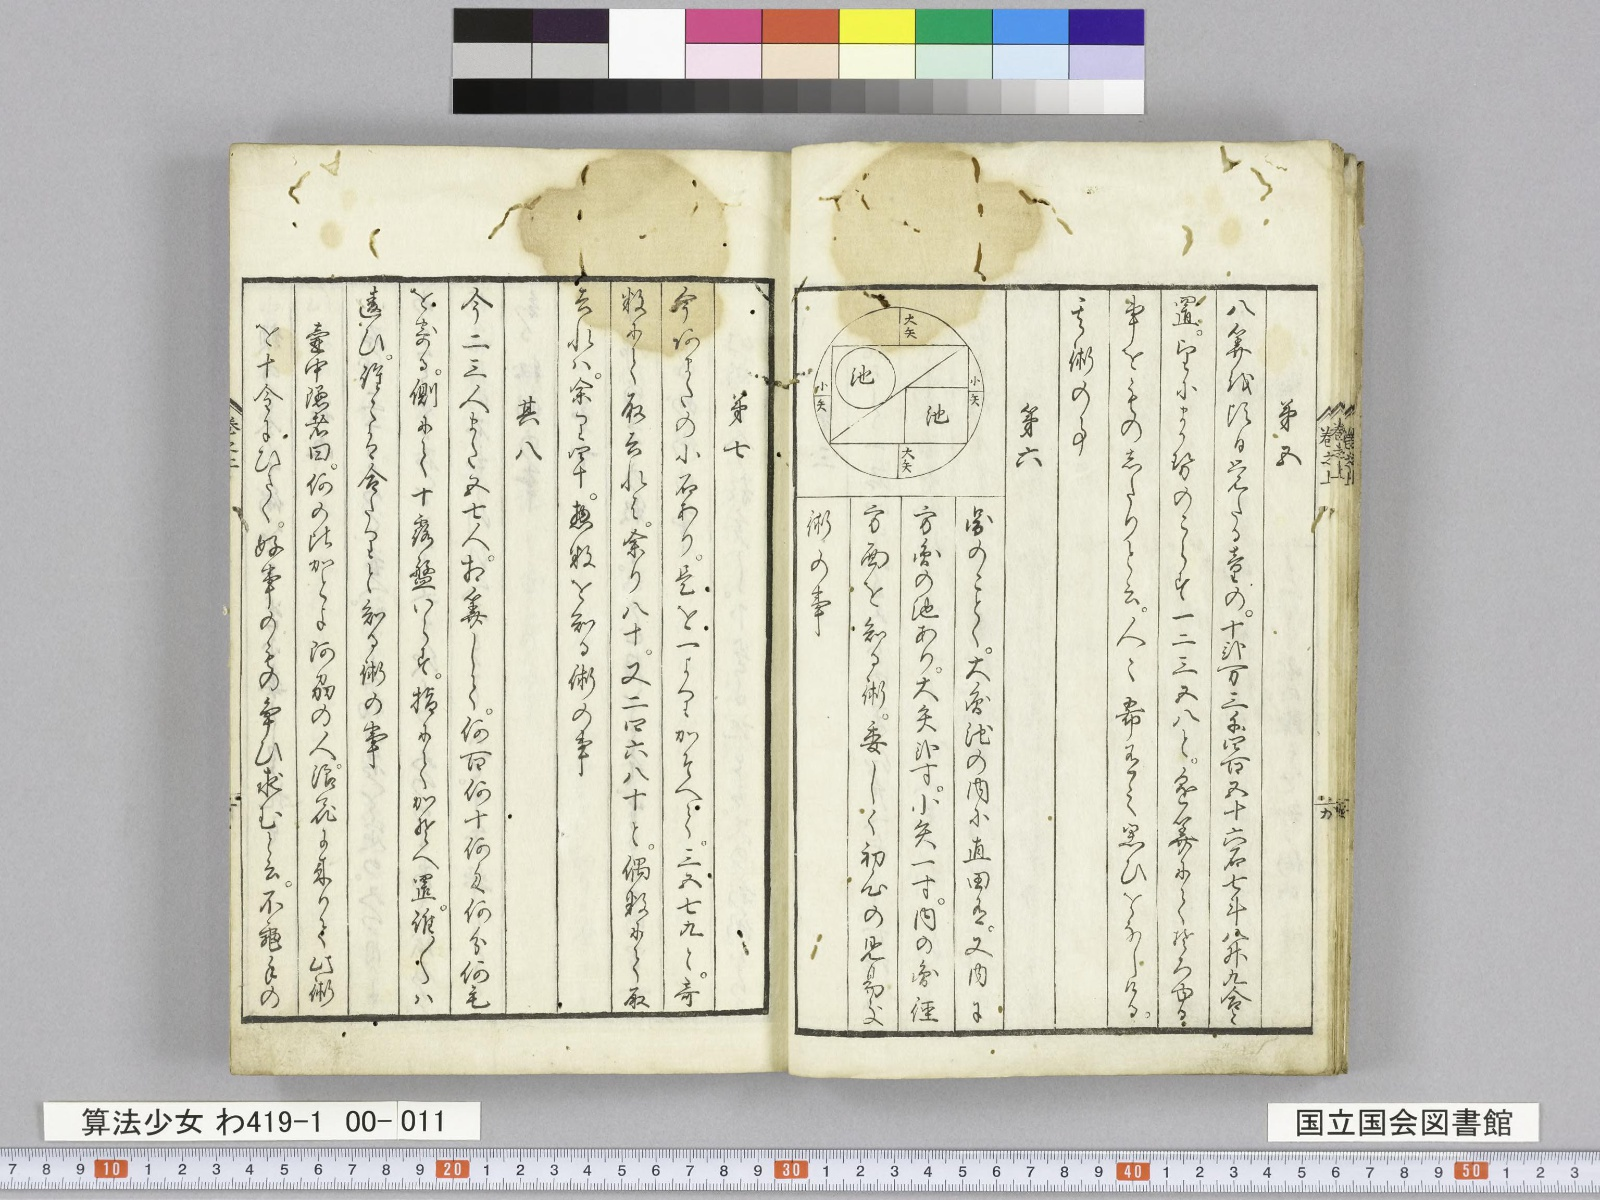1_overall: (231, 141, 1363, 1078)
2_handwritten: (674, 287, 706, 1008), (1172, 292, 1202, 961), (411, 286, 438, 1011), (624, 286, 651, 1010), (307, 325, 336, 1008), (1123, 296, 1149, 1022), (462, 292, 489, 1010), (1226, 297, 1251, 1024), (260, 321, 286, 1006), (913, 511, 944, 1024), (359, 286, 391, 773), (569, 286, 598, 782), (968, 509, 991, 1024), (866, 508, 887, 1024), (1071, 297, 1096, 463), (1015, 397, 1044, 482), (728, 381, 756, 466), (813, 513, 831, 632), (1274, 401, 1303, 473), (517, 396, 542, 466)
4_illustration: (801, 296, 986, 479)
